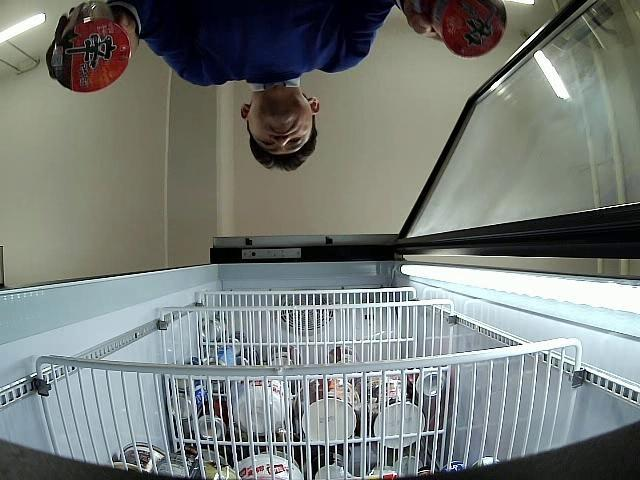02_shinRamen_S: (46, 0, 132, 92), (411, 0, 506, 58)
